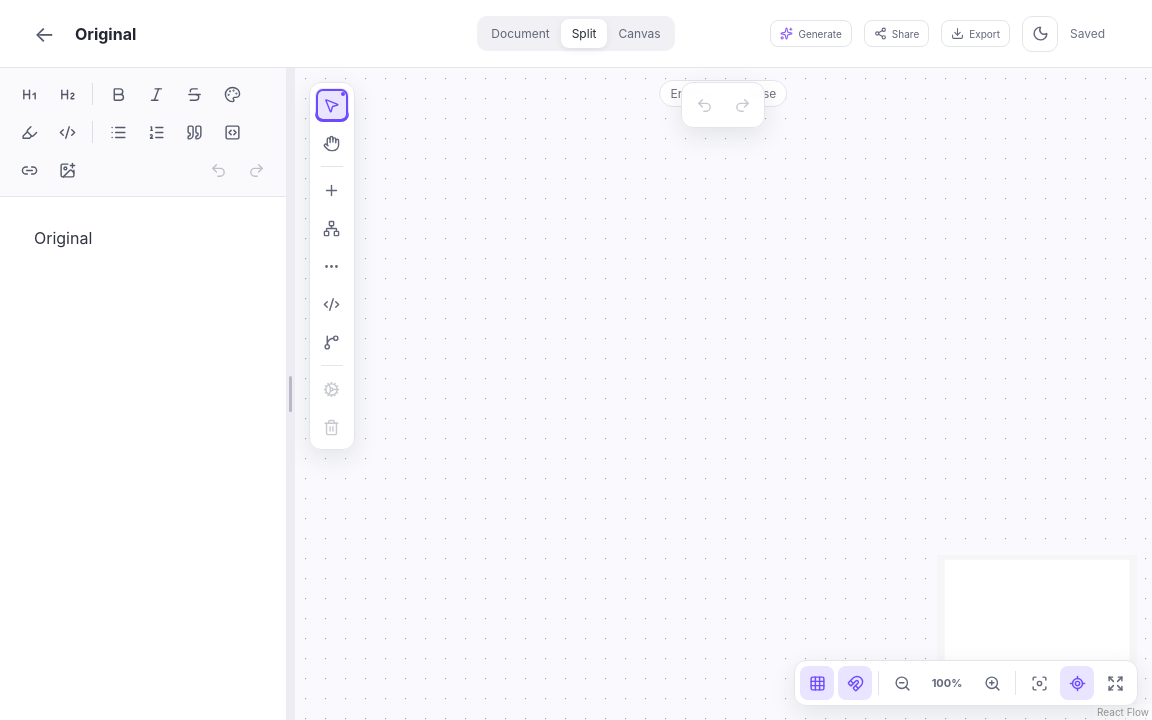
Scenario: Editor conflict recovery › overwrites only after the user explicitly keeps the local version
Replace the text in the field named "Project name" with "Changed in Tab B": (253, 34) [73,22,433,44]
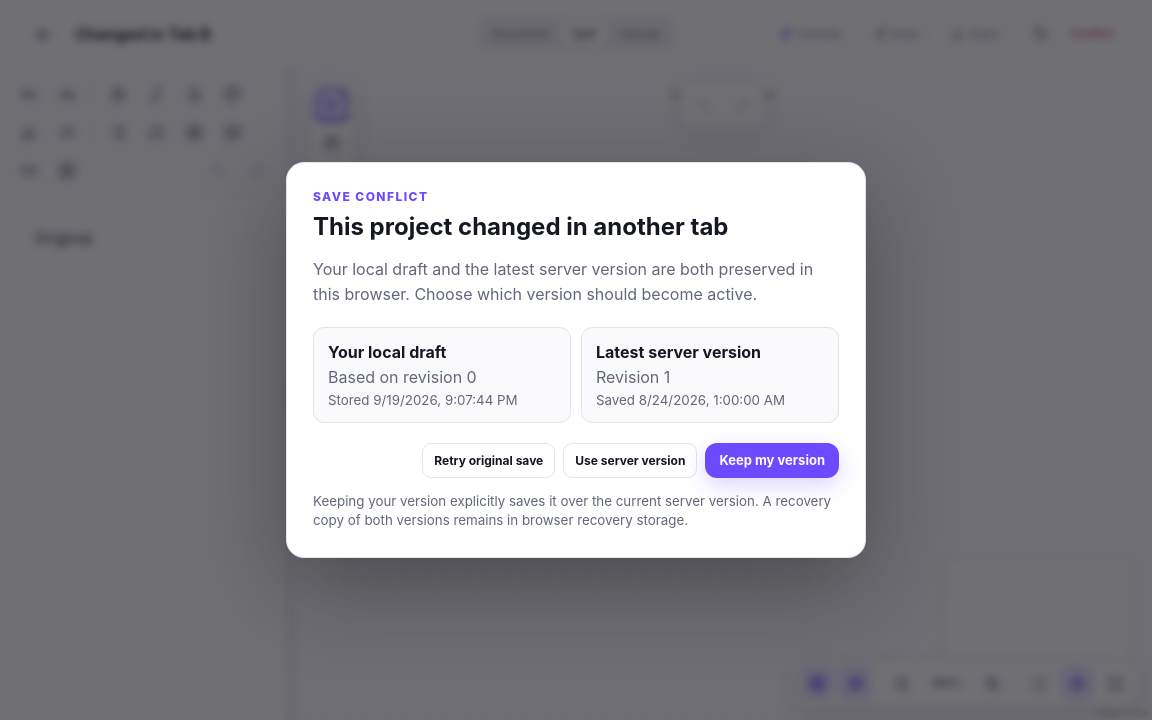
Expected: the dialog "This project changed in another tab" is shown, [286,162,866,558]
Click the button "Keep my version": click(772, 460) [705,443,839,478]
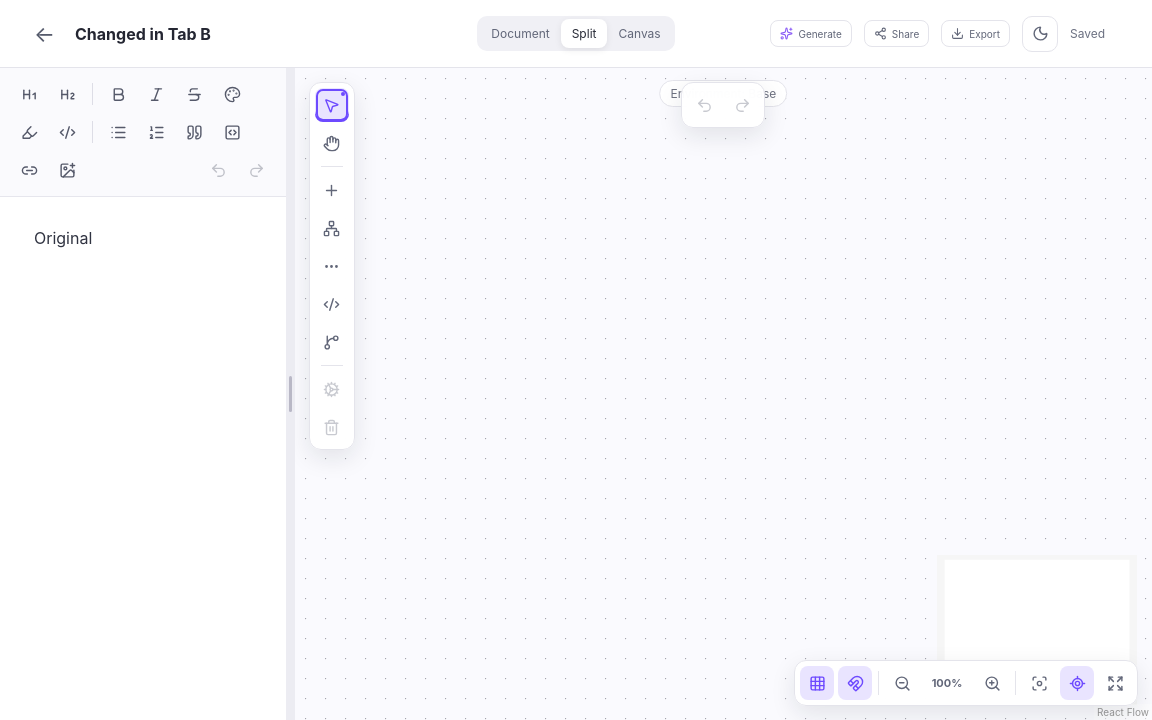
Expected: the text "Saved" is shown, [1070,26,1105,41]
Expected: the dialog is gone
